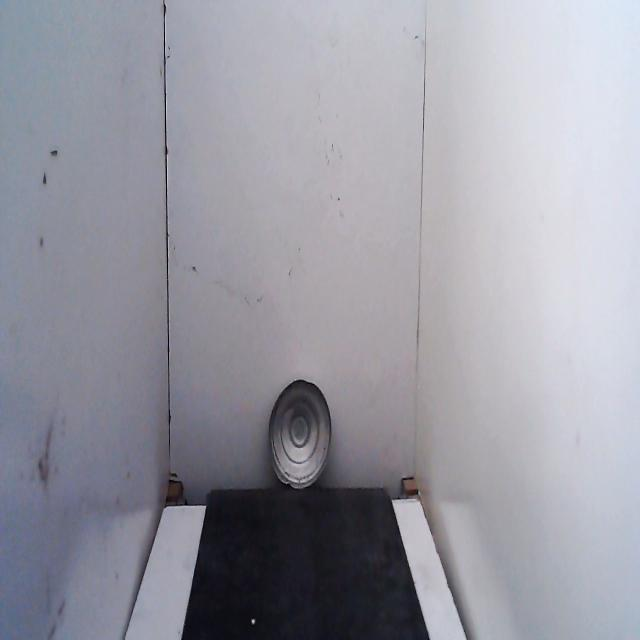metal: (257, 368, 344, 514)
